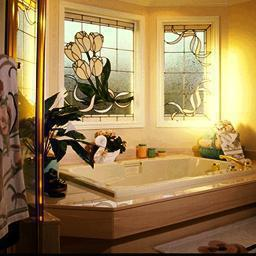Ducha: (0, 1, 45, 251)
